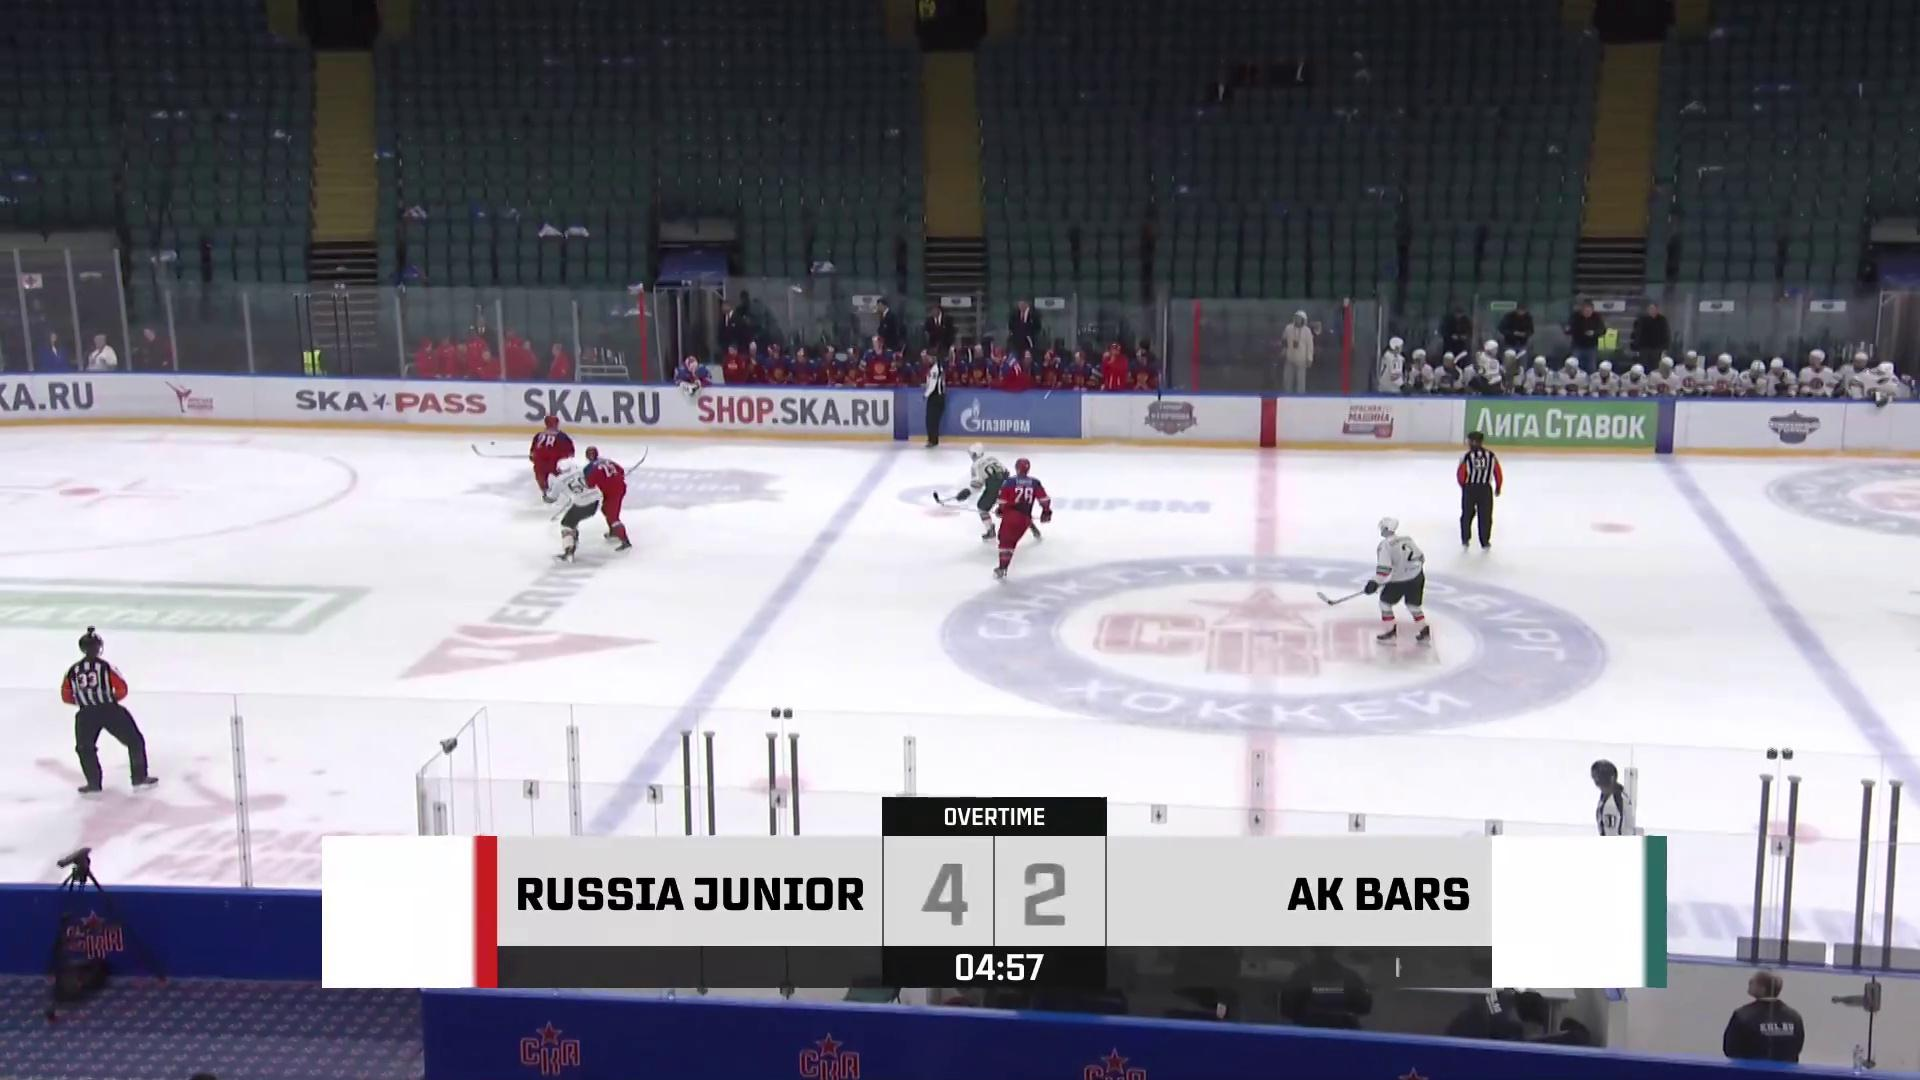ball: (489, 442, 496, 446)
